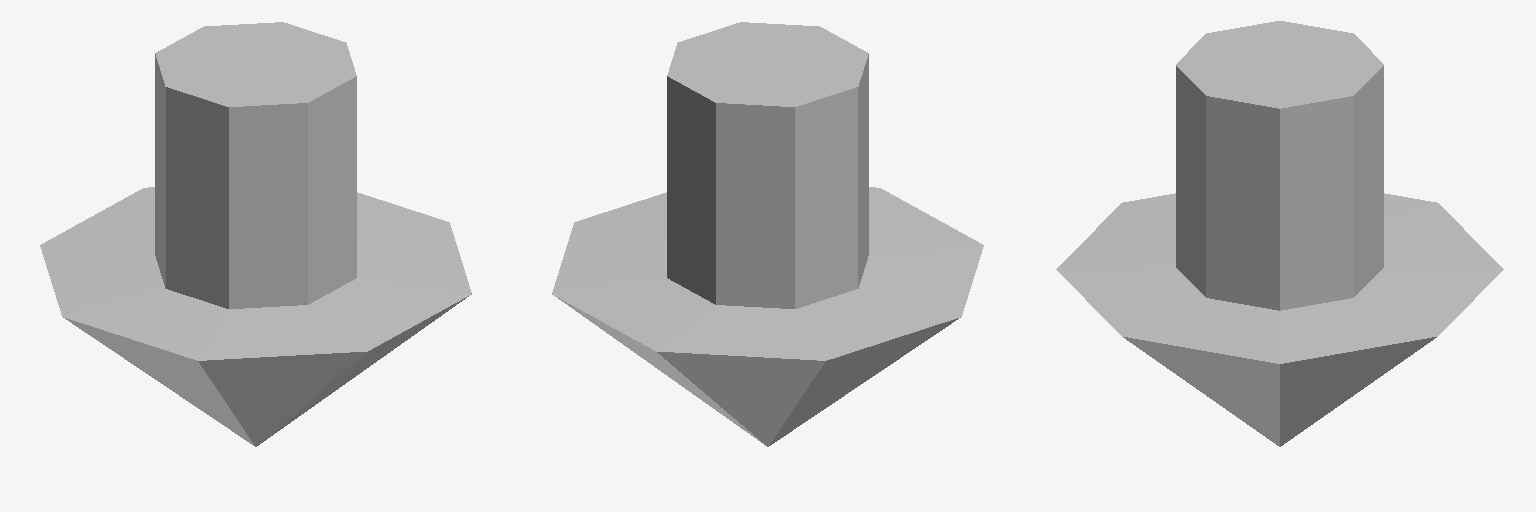
The model's file is Arrow.obj.
3 views of the same model, side by side, from view 1: azimuth 30°, elevation 25°; view 2: azimuth 150°, elevation 25°; view 3: azimuth 270°, elevation 25° (orthographic).
Parts seen in each view (by area): view 1: pCylinder1; view 2: pCylinder1; view 3: pCylinder1.
Part boxes in pixels (left/top/right/bottom): pCylinder1: left=40, top=22, right=471, bottom=446; pCylinder1: left=552, top=22, right=983, bottom=446; pCylinder1: left=1056, top=21, right=1503, bottom=446.
Size of the model in its own units: 5.07 by 4.78 by 5.07.